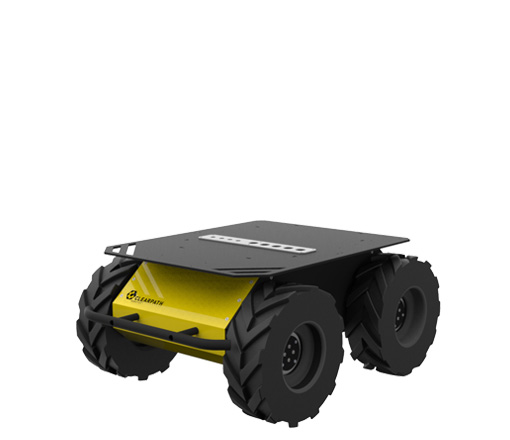husky: (76, 220, 441, 428)
